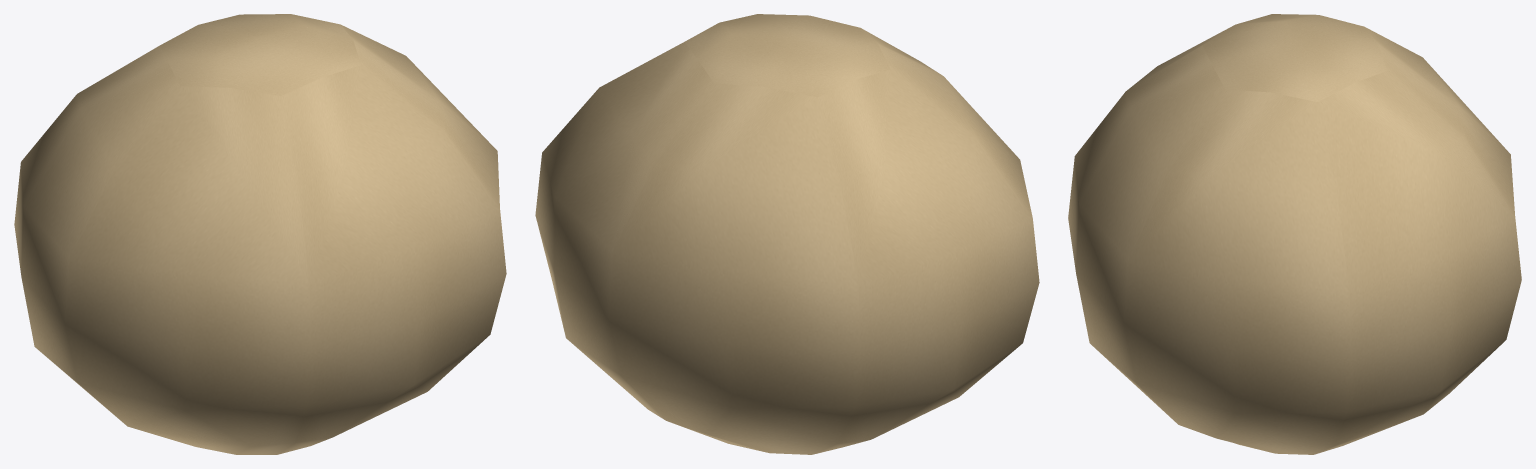
File: SM_SandPellet.fbx
3 renders of one model, left to right at view 1: azimuth 30°, elevation 25°; view 2: azimuth 150°, elevation 25°; view 3: azimuth 270°, elevation 25°, orthographic.
Parts seen in each view (by area): view 1: SM_SandPellet; view 2: SM_SandPellet; view 3: SM_SandPellet.
Part boxes in pixels (x1=…): SM_SandPellet: x1=14, y1=14, x2=506, y2=454; SM_SandPellet: x1=535, y1=14, x2=1039, y2=454; SM_SandPellet: x1=1068, y1=14, x2=1521, y2=454.
Size of the model in its own units: 0.9712 by 0.8641 by 0.82.
1 material, 1 textured.
